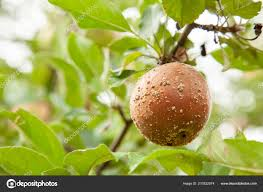damaged_apple: (132, 64, 213, 149)
